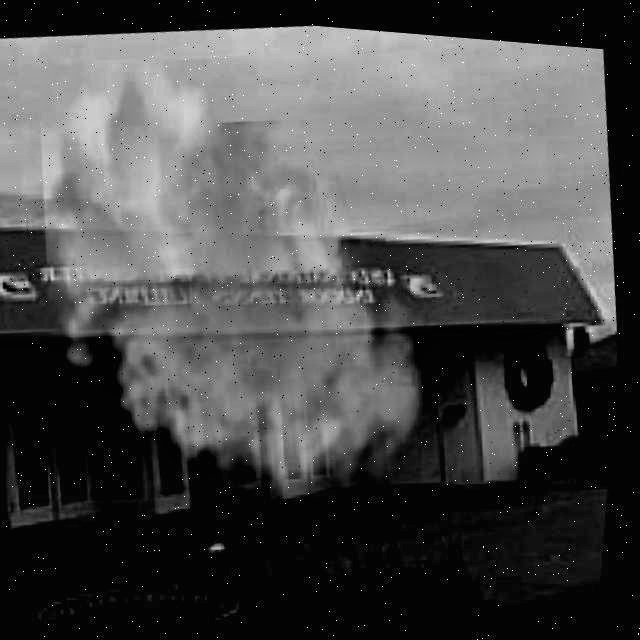Smoke: (21, 39, 443, 525)
